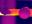Hotspot: (8, 11, 18, 16), (0, 12, 3, 15)
